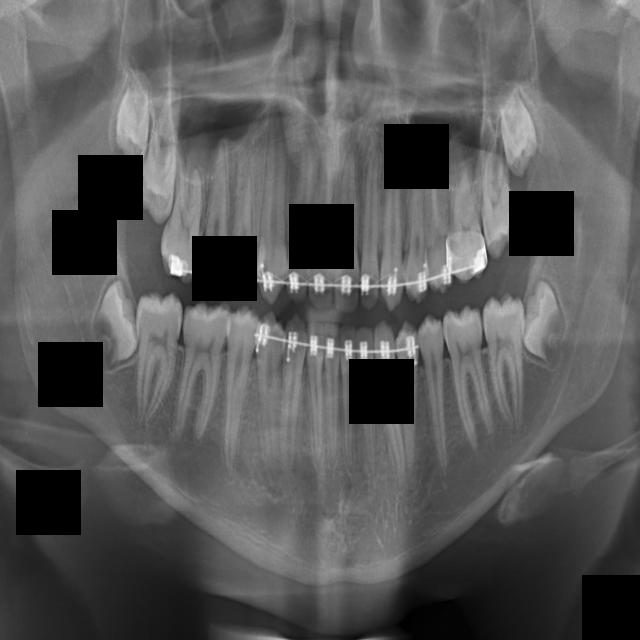3M ESPE Implant: (110, 67, 150, 166)
AGS Medikal Implant: (360, 142, 380, 316)
AMerOss Implant: (379, 129, 407, 317)
Amalgam filling: (398, 153, 430, 304)
Anthogyr Implant: (418, 135, 457, 295)
Bicon Implant: (435, 133, 491, 285)
BioHorizons Implant: (464, 126, 528, 262)
BioLife Implant: (491, 86, 545, 181)
Biomet 3i Implant: (522, 277, 567, 372)
Blue Sky Bio Implant: (515, 426, 516, 428)
Camlog Implant: (441, 300, 496, 455)
Caries: (130, 74, 186, 227)
Composite filling: (417, 313, 451, 482)
Cowellmedi Implant: (392, 321, 430, 485)
Crown: (371, 320, 408, 498)
DENTSPLY Implant: (355, 325, 376, 480)
Dentatus Implant: (339, 324, 355, 473)
Dentis Implant: (321, 320, 340, 471)
Dentium Implant: (306, 319, 324, 475)
Euroteknika Implant: (274, 311, 308, 487)
Filling: (252, 308, 283, 478)
Frontier Implant: (207, 302, 260, 481)
Hiossen Implant: (156, 146, 213, 286)
Implant: (145, 417, 145, 418)
Implant Direct: (173, 300, 232, 444)
Keystone Dental Implant: (90, 279, 135, 371)
MIS Implant: (198, 142, 240, 293)
Mandible: (227, 146, 256, 298)
Maxilla: (252, 99, 300, 309)
Megagen Implant: (284, 124, 319, 305)
Neodent Implant: (305, 138, 346, 314)
Neoss Implant: (333, 143, 365, 318)
